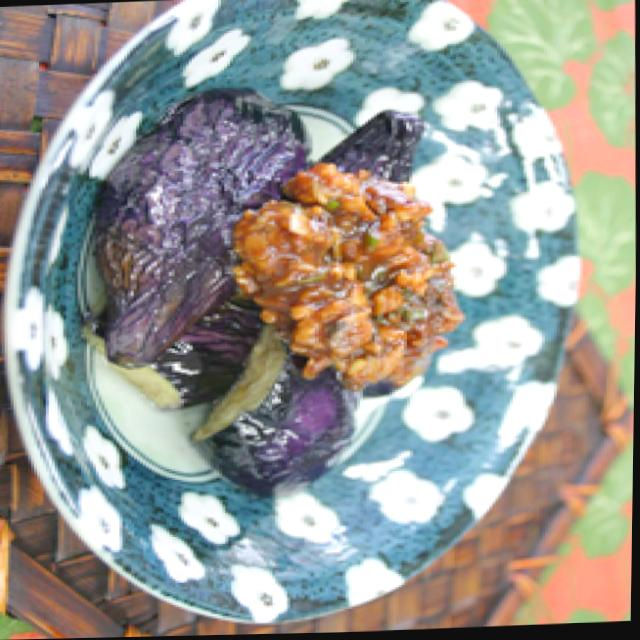鸡蛋料理: (46, 40, 464, 510)
